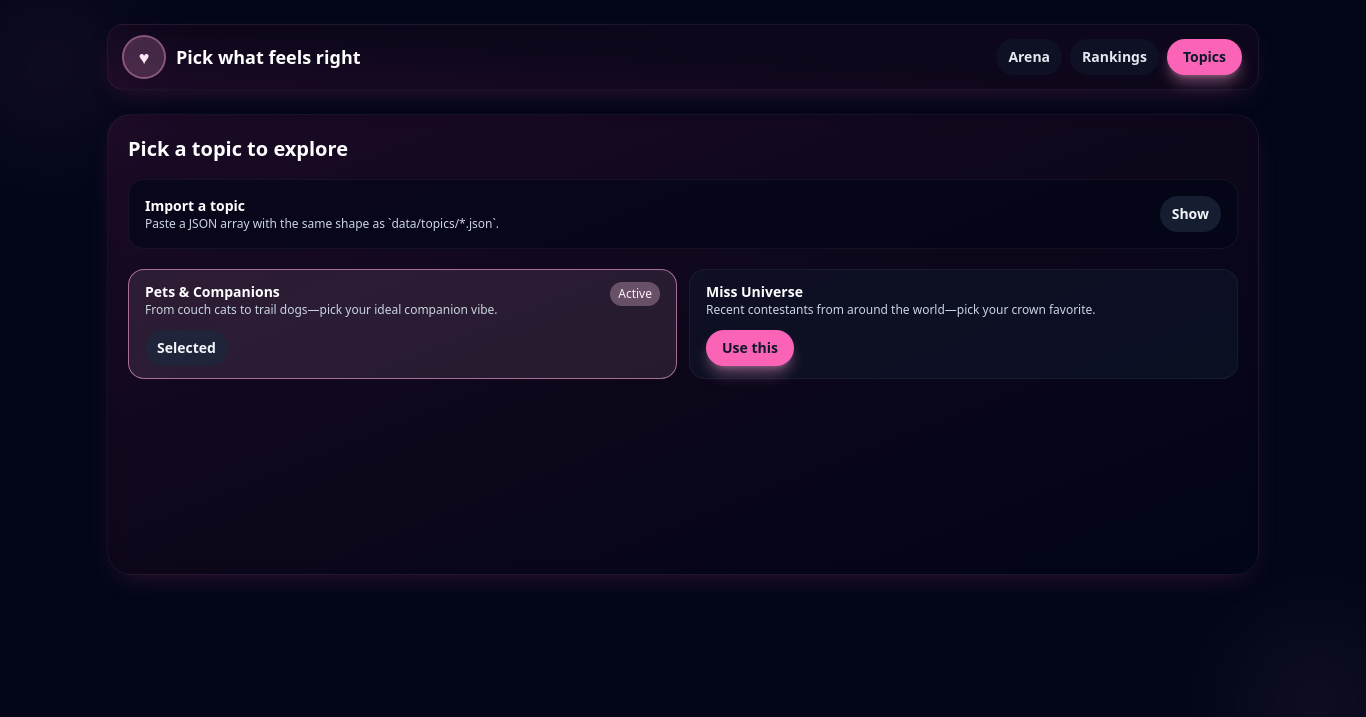
Scenario: loads ratings on page load using last selected topic
Click the button "Rankings" at (1114, 57), box [1070, 39, 1159, 75]
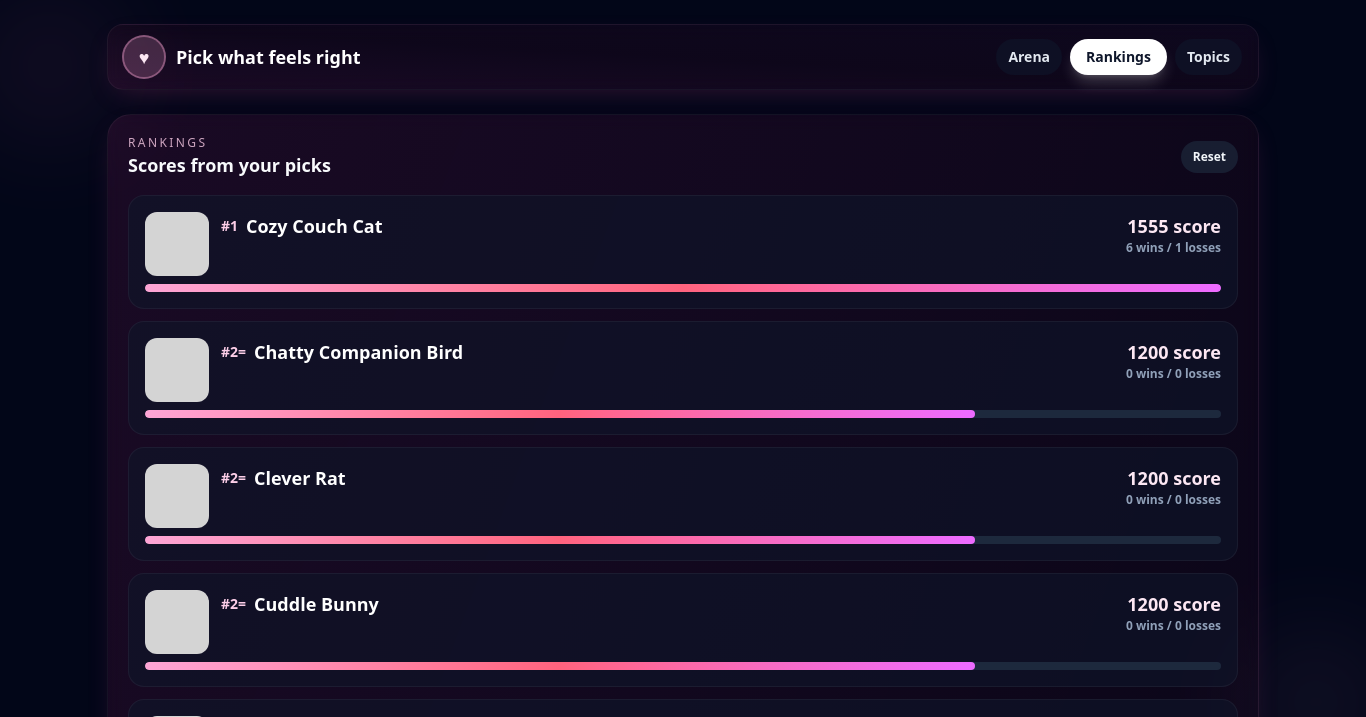
Result: the text "1555 score" is shown at [1127, 212, 1221, 240]
